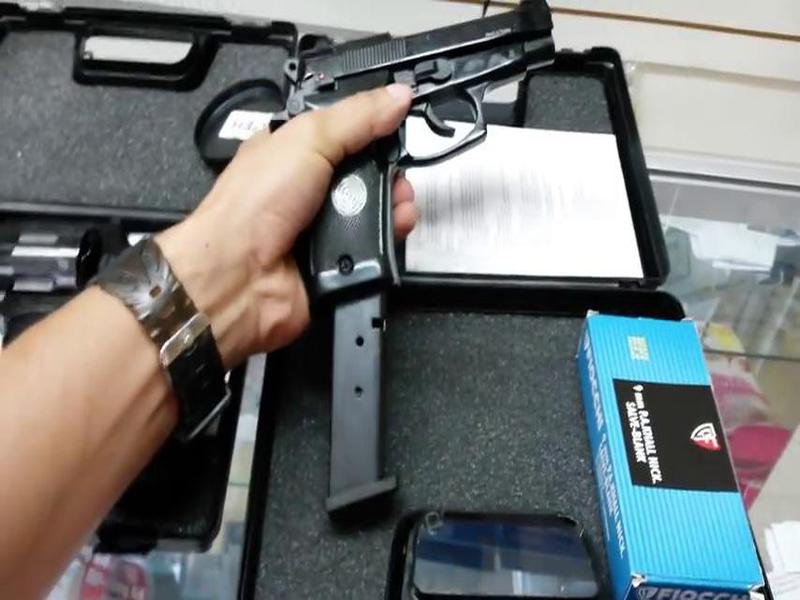Pistola: (279, 1, 589, 324)
